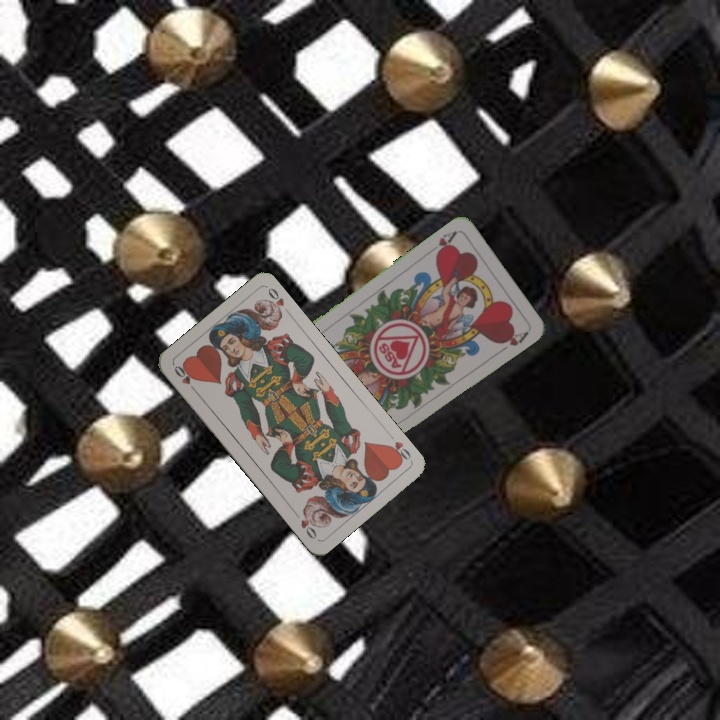HA: (425, 227, 460, 258)
HO: (383, 429, 414, 465), (170, 361, 200, 395)
